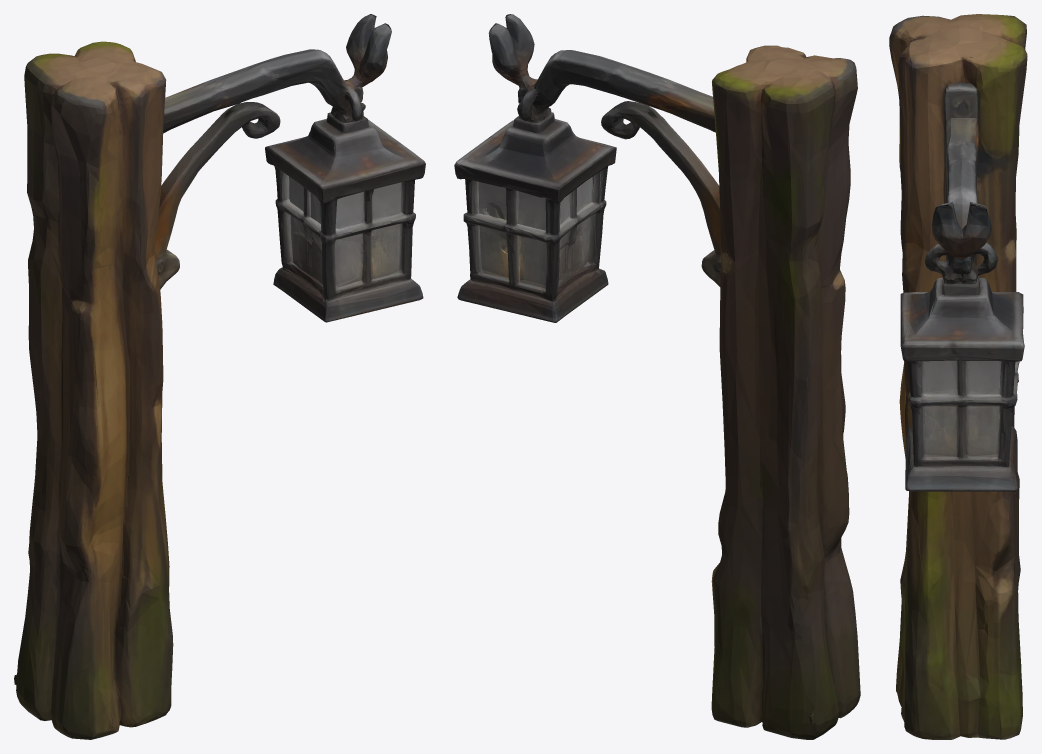
File: lantern.glb
The picture shows the model from 3 angles, left to right: view 1: azimuth 30°, elevation 25°; view 2: azimuth 150°, elevation 25°; view 3: azimuth 270°, elevation 25°; orthographic projection. The views are drawn at different scales.
Visible parts, largest first — view 1: world; view 2: world; view 3: world.
Boxes of the visible parts, x1,y1,x2,y2 form: world: (14, 14, 425, 739); world: (454, 14, 860, 739); world: (889, 14, 1027, 739).
Size of the model in its own units: 0.5849 by 0.9983 by 0.1834.
1 material, 1 textured.
